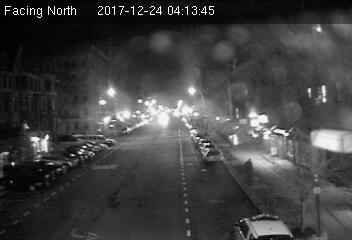car: (201, 147, 223, 163)
police: (227, 210, 303, 240)
